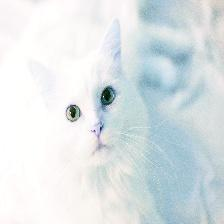kedo: (29, 18, 152, 164)
